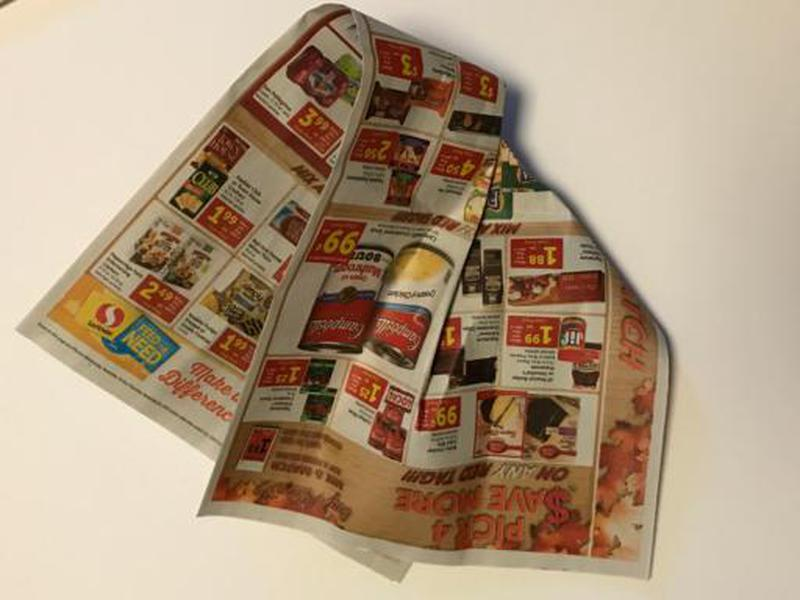paper: (13, 2, 676, 590)
